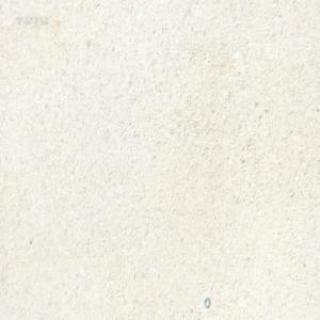Washertrack_idkeyframe: (203, 295, 209, 308)
